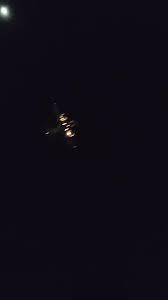Plane: (42, 88, 93, 160)
